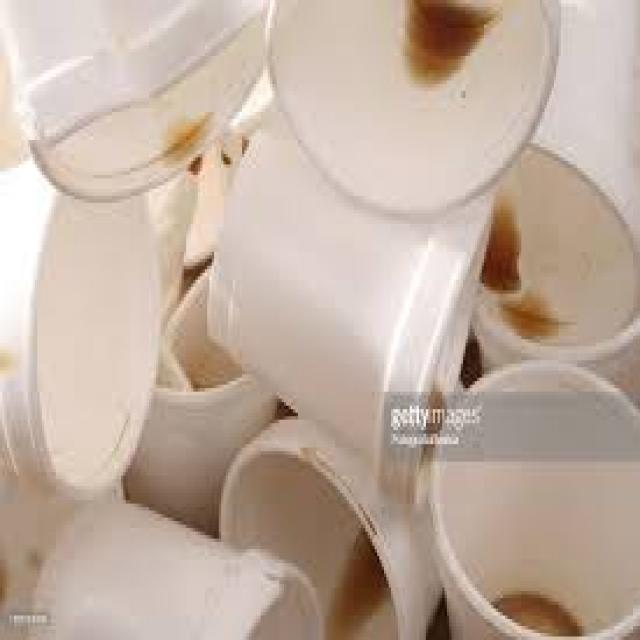trash: (202, 101, 490, 506), (263, 0, 561, 206), (426, 357, 638, 637), (0, 168, 156, 492), (216, 413, 440, 637), (28, 1, 260, 200), (21, 493, 321, 637), (474, 140, 638, 360)
